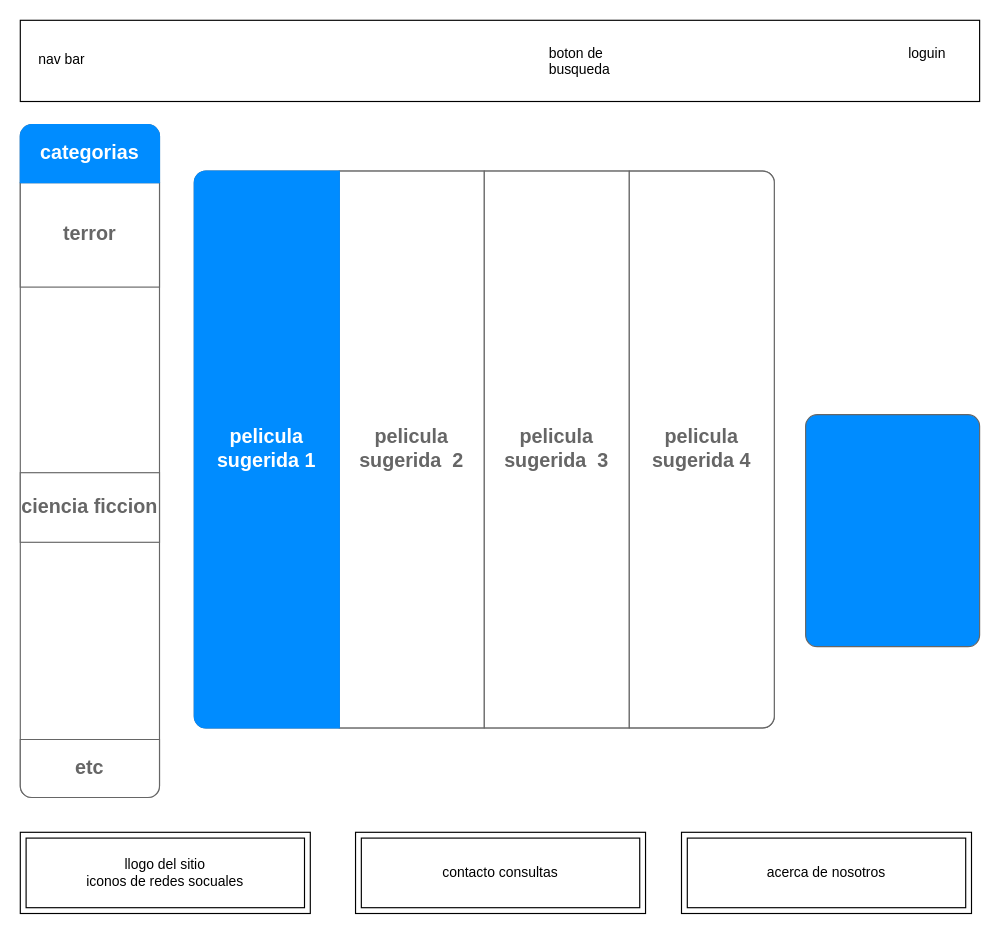
This 1000x934 diagram has some shape labels left out. Each missing label, with the box of its shape:
ingrese aqui: (804, 451, 980, 545)
promociones de suscripcion: (804, 553, 980, 600)
